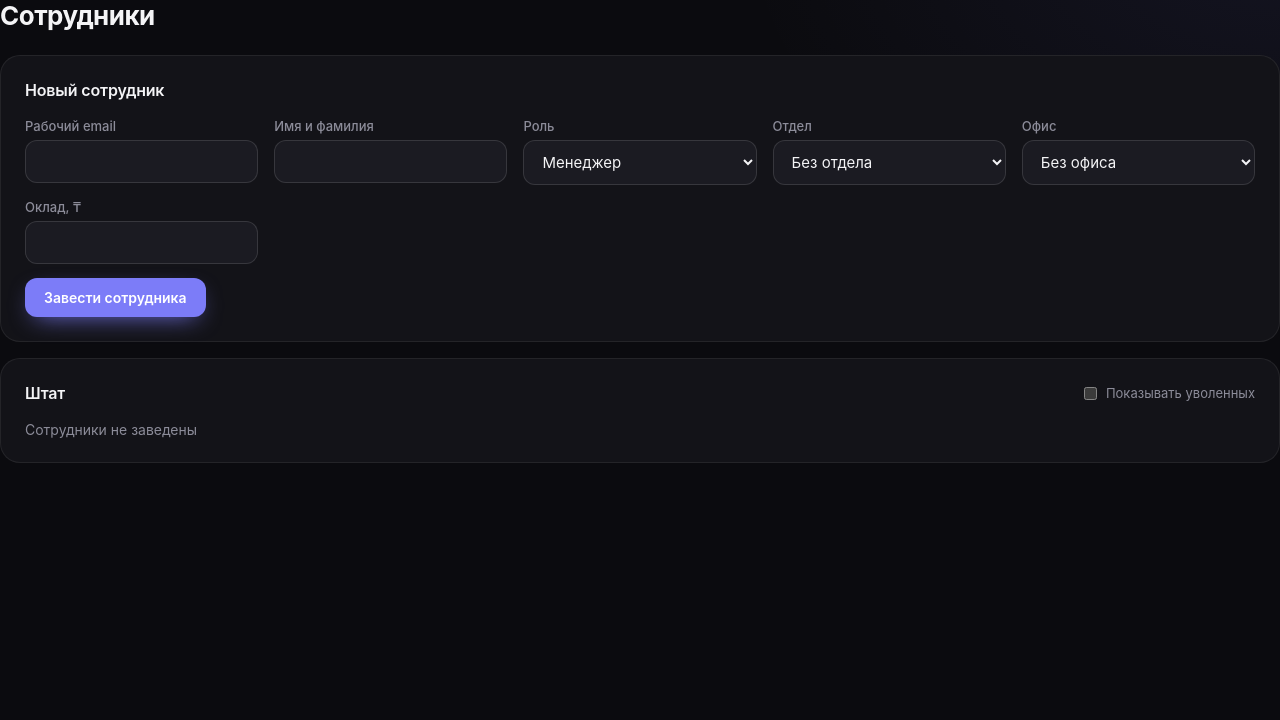
Test: заведение сотрудника: временный пароль › пароль показывается после заведения
This screenshot has width=1280, height=720.
Expected: the heading "Новый сотрудник" is shown, [25, 80, 164, 100]
Type "new@corpsol.kz" into the field labelled "Рабочий email" at (142, 162), box [25, 140, 258, 183]
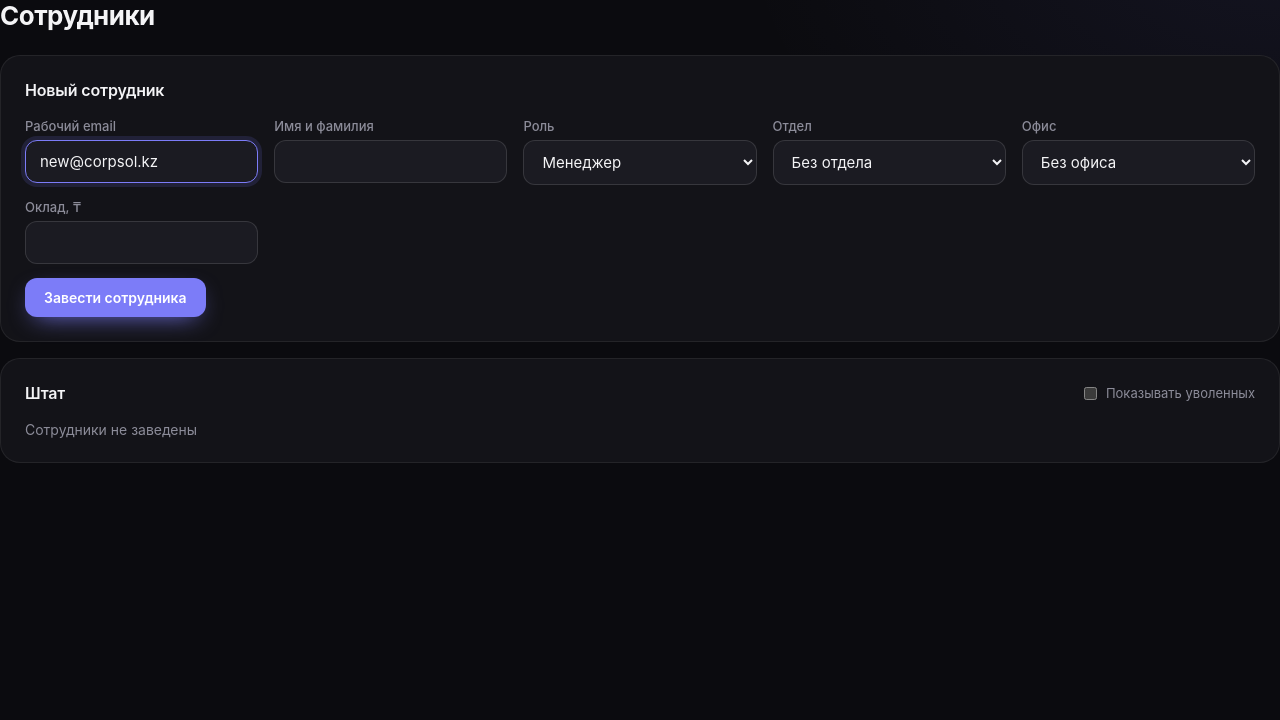
Type "Асель Ким" into the field labelled "Имя и фамилия" at (391, 162), box [274, 140, 507, 183]
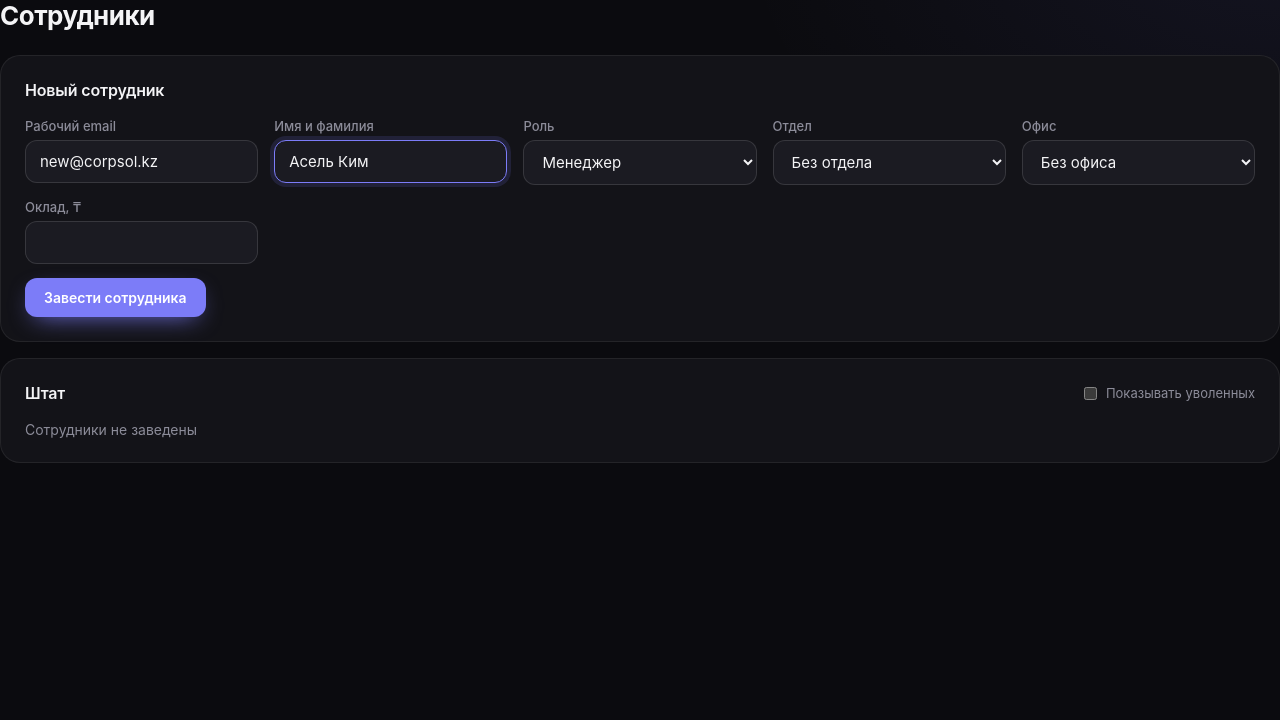
Type "300000" into the number field labelled "Оклад, ₸" at (142, 242), box [25, 221, 258, 264]
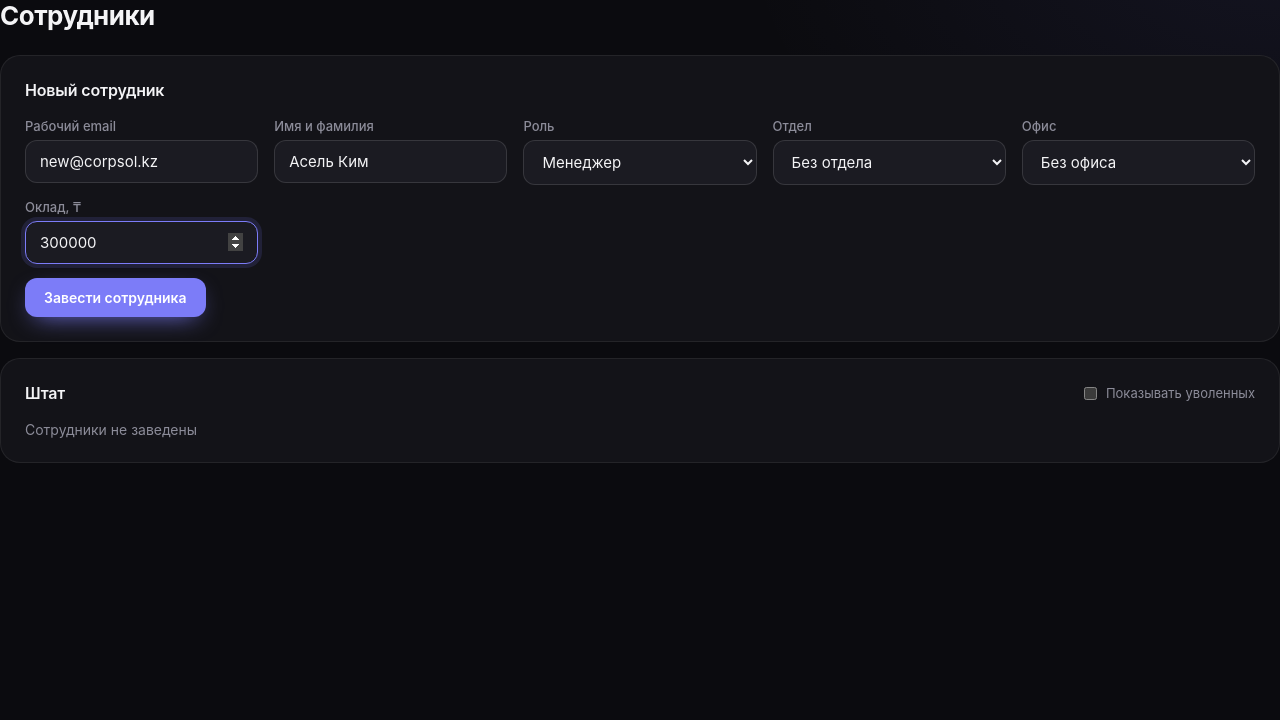
Click the button "Завести сотрудника" at (115, 298), box [25, 278, 206, 317]
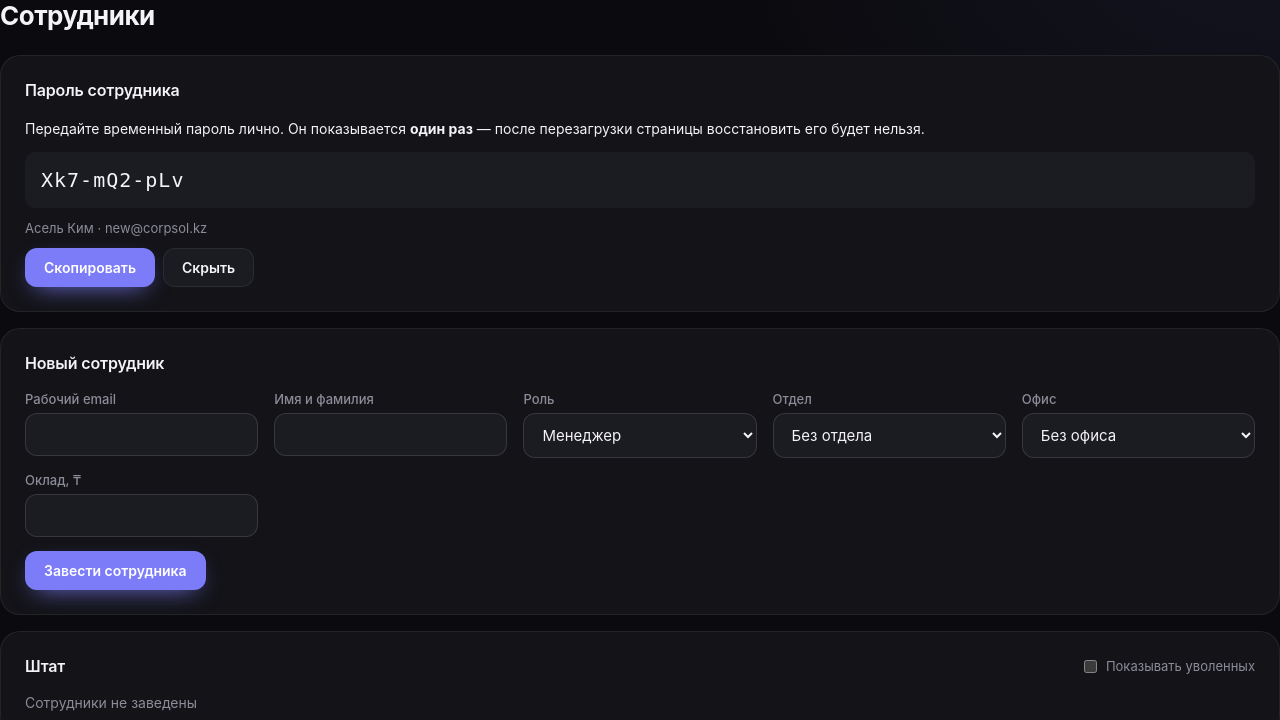
Expected: the text "Xk7-mQ2-pLv" is shown, [25, 152, 1255, 208]
